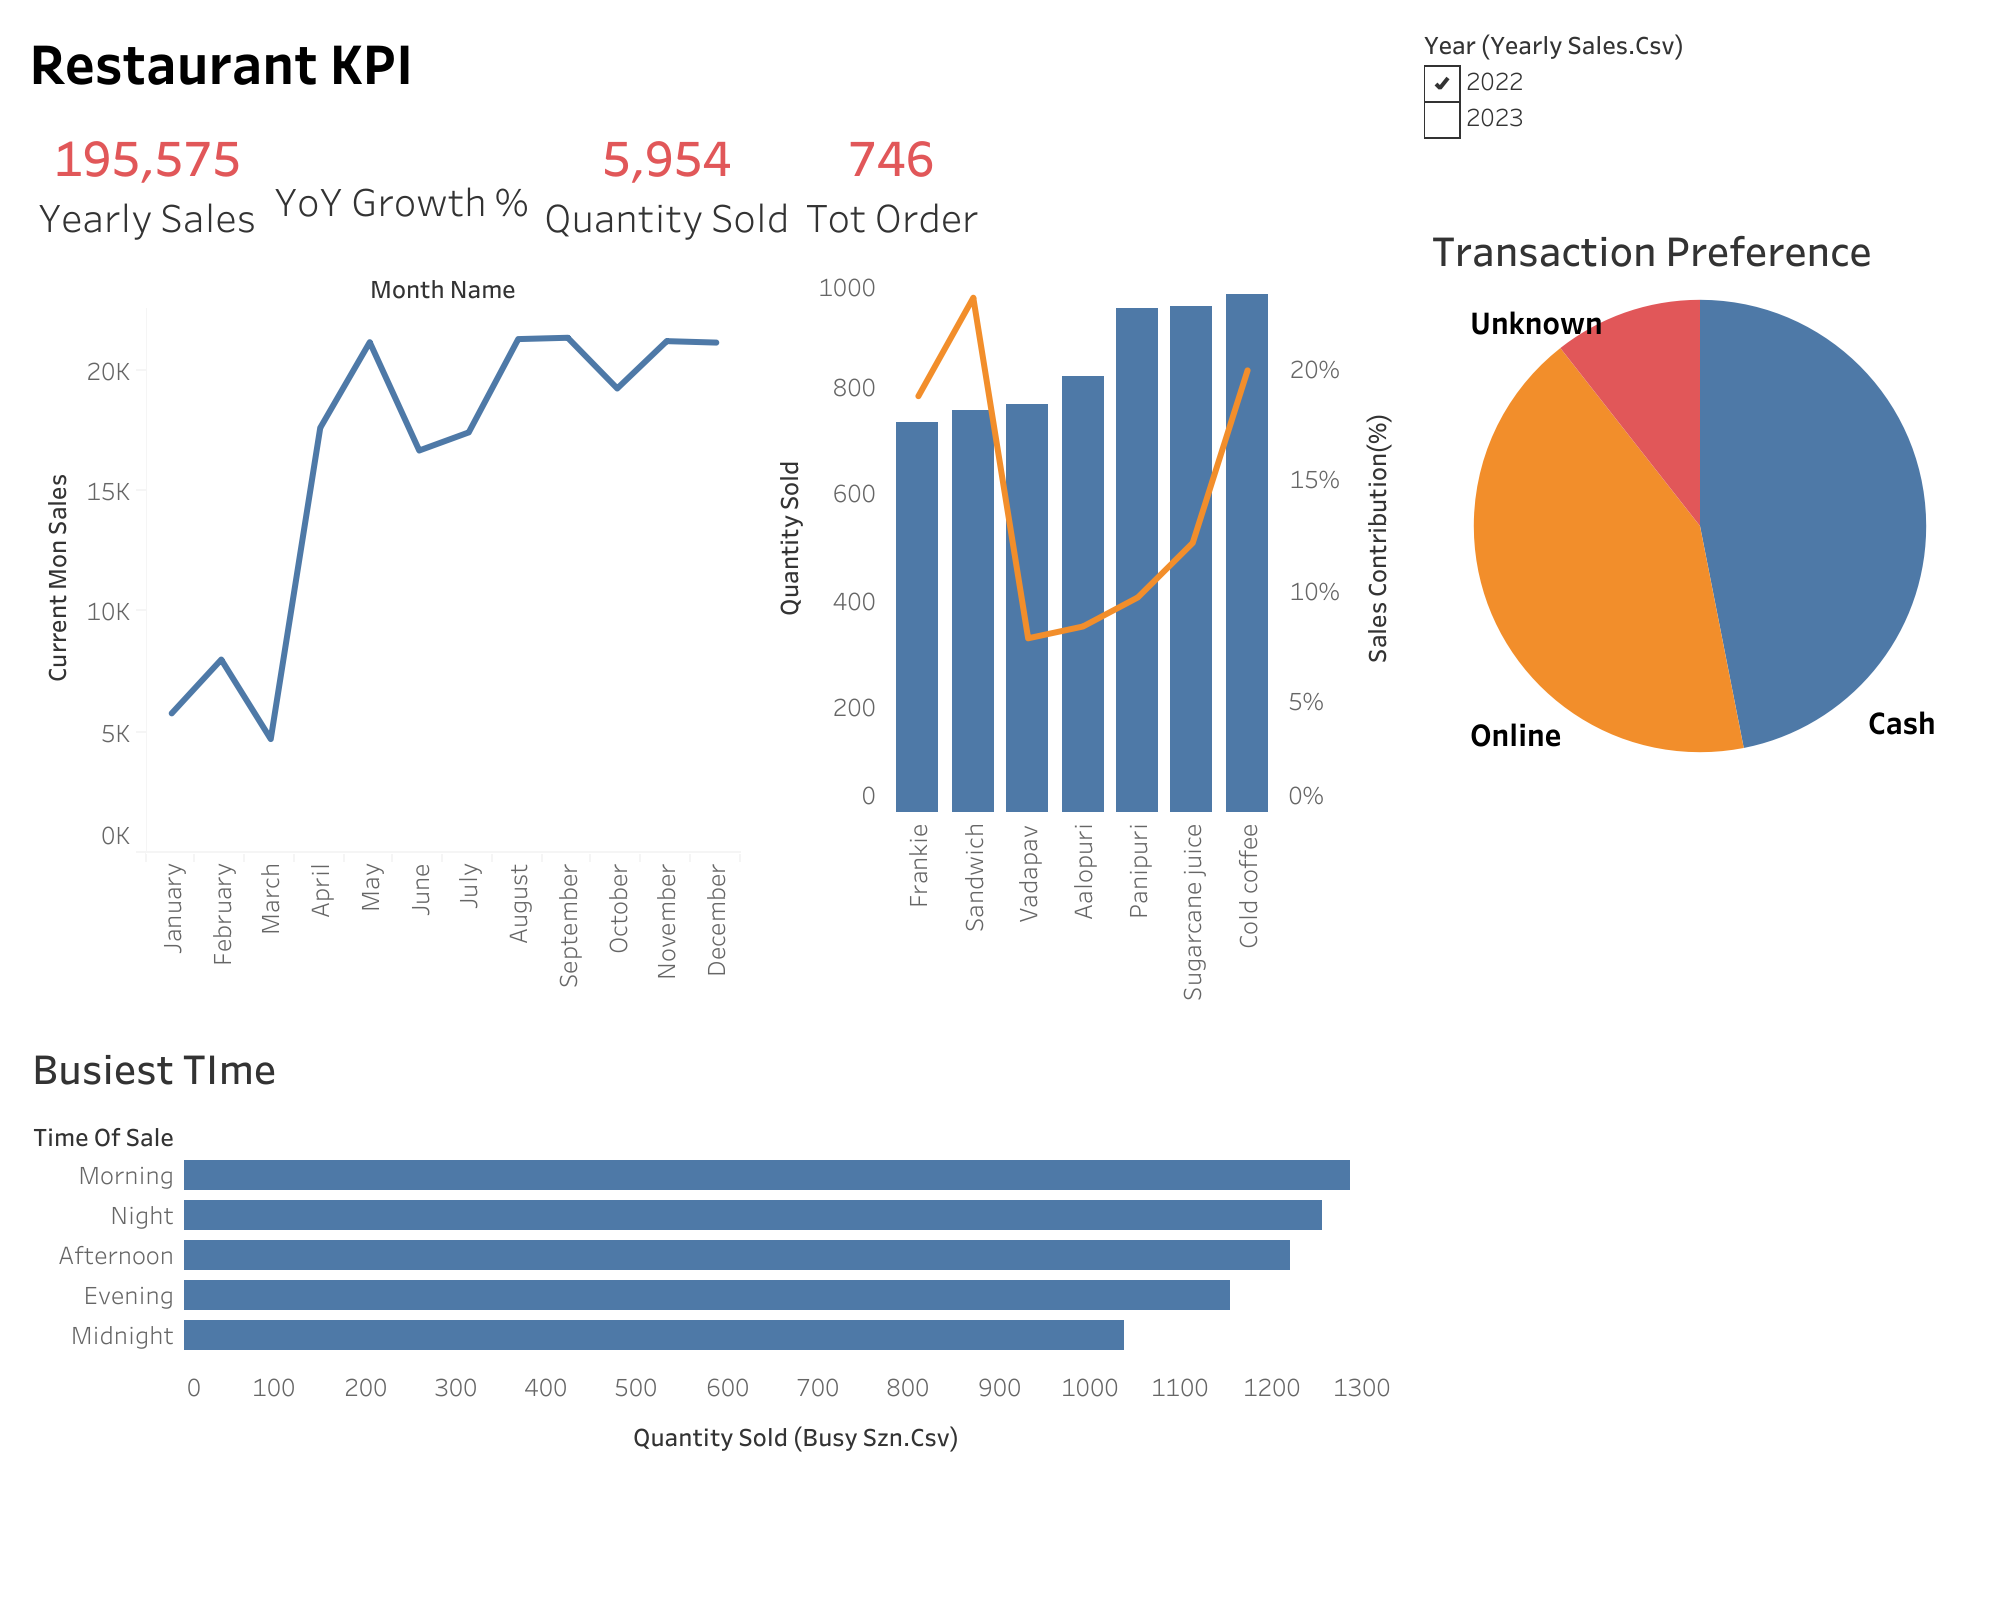

This screenshot's page, from the dashboard's own definition file:
{"tool":"tableau","page":{"name":"Dashboard 1","canvas":[1000,800],"ordinal":0},"visuals":[{"type":"text","box":[8,8,700,45]},{"type":"filter","title":"Sheet 1","param":"[federated.18tlbyl1j0cod11bfbmzf0bjxvw2].[none:year (yearly_sales.csv):nk]","box":[708,8,284,89]},{"type":"worksheet","title":"Sheet 2","mark":"Automatic","box":[8,53,700,77]},{"type":"worksheet","title":"Sheet 5","mark":"Pie","box":[708,97,284,330]},{"type":"worksheet","title":"Sheet 1","mark":"Line","rows":["current_mon_sales"],"cols":["month_name"],"box":[8,130,366,380]},{"type":"worksheet","title":"Sheet 3","mark":"Automatic","rows":["quantity_sold","sales"],"cols":["item_name"],"box":[374,130,334,380]},{"type":"worksheet","title":"Sheet 4","mark":"Automatic","rows":["time_of_sale"],"cols":["quantity_sold (busy_szn.csv)"],"box":[8,510,700,226]}]}

Visuals, with their boxes in screenshot pixels (x1, y1, x2, y2), scaled from the page's 1000x800 canvas onto the 1998x1598 screenshot:
text: <bbox>16, 16, 1415, 106</bbox>
"Sheet 1" filter: <bbox>1415, 16, 1982, 194</bbox>
"Sheet 2" worksheet: <bbox>16, 106, 1415, 260</bbox>
"Sheet 5" worksheet (Pie marks): <bbox>1415, 194, 1982, 853</bbox>
"Sheet 1" worksheet (Line marks): <bbox>16, 260, 747, 1019</bbox>
"Sheet 3" worksheet: <bbox>747, 260, 1415, 1019</bbox>
"Sheet 4" worksheet: <bbox>16, 1019, 1415, 1470</bbox>
